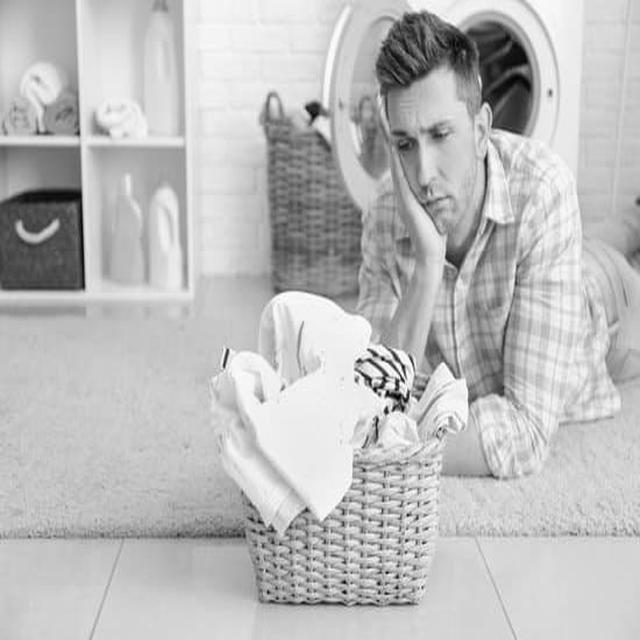Sadness: (386, 73, 473, 235)
